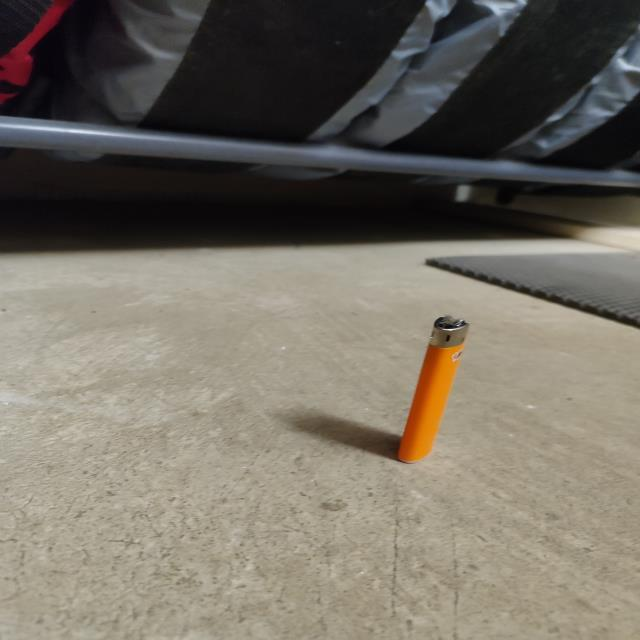lighter: (397, 316, 468, 462)
